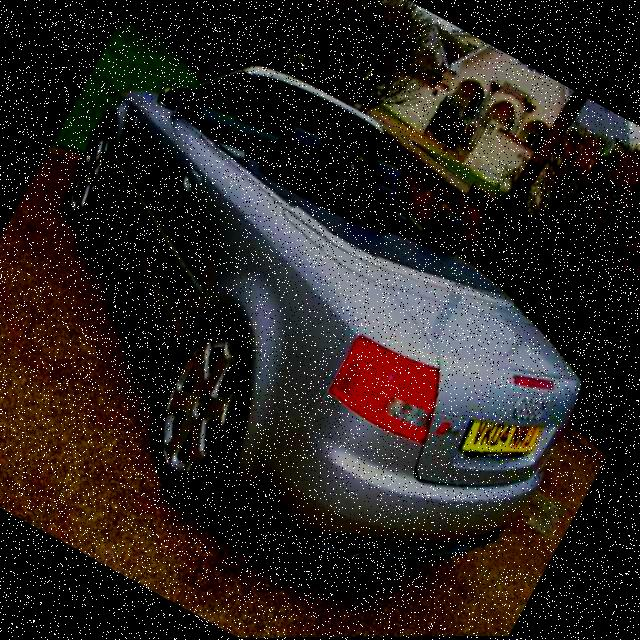license_plate: (454, 396, 544, 482), (458, 126, 463, 132)
